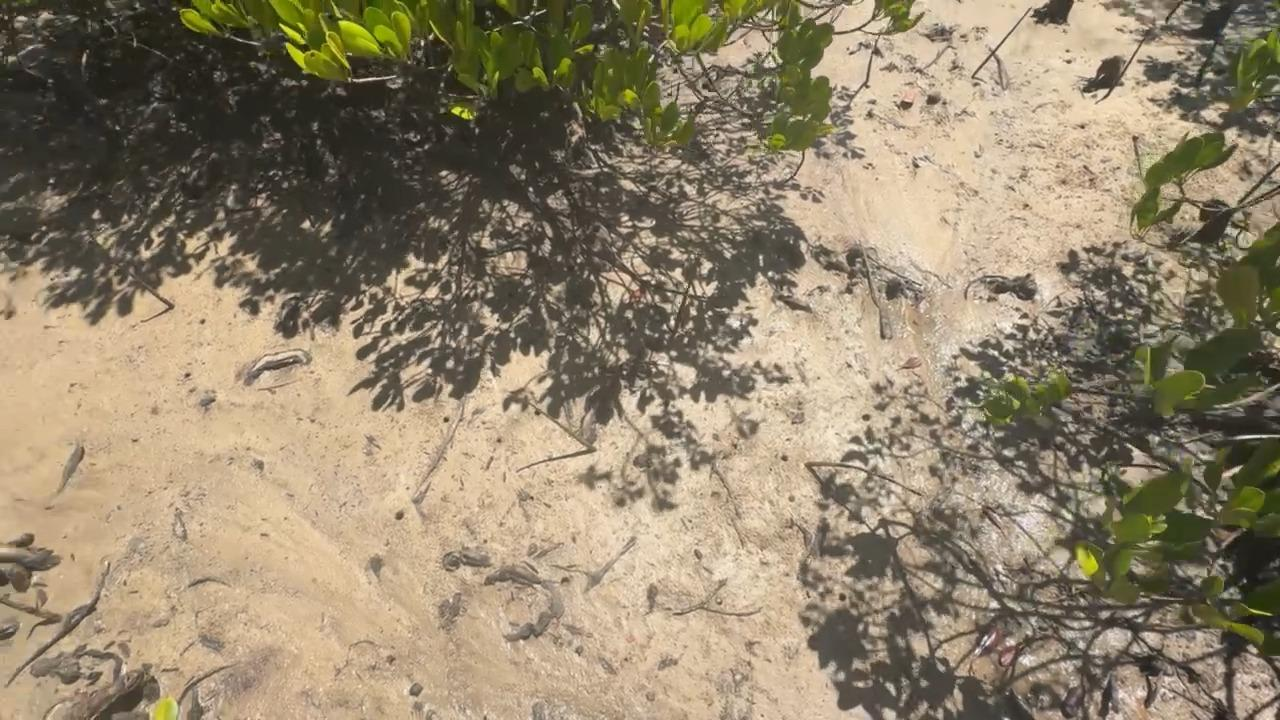Tree: (90, 229, 172, 310), (520, 393, 597, 454), (971, 7, 1031, 80), (1098, 26, 1154, 104), (806, 461, 924, 497), (668, 252, 702, 347), (0, 596, 61, 623), (864, 27, 883, 86), (1196, 40, 1218, 88)
